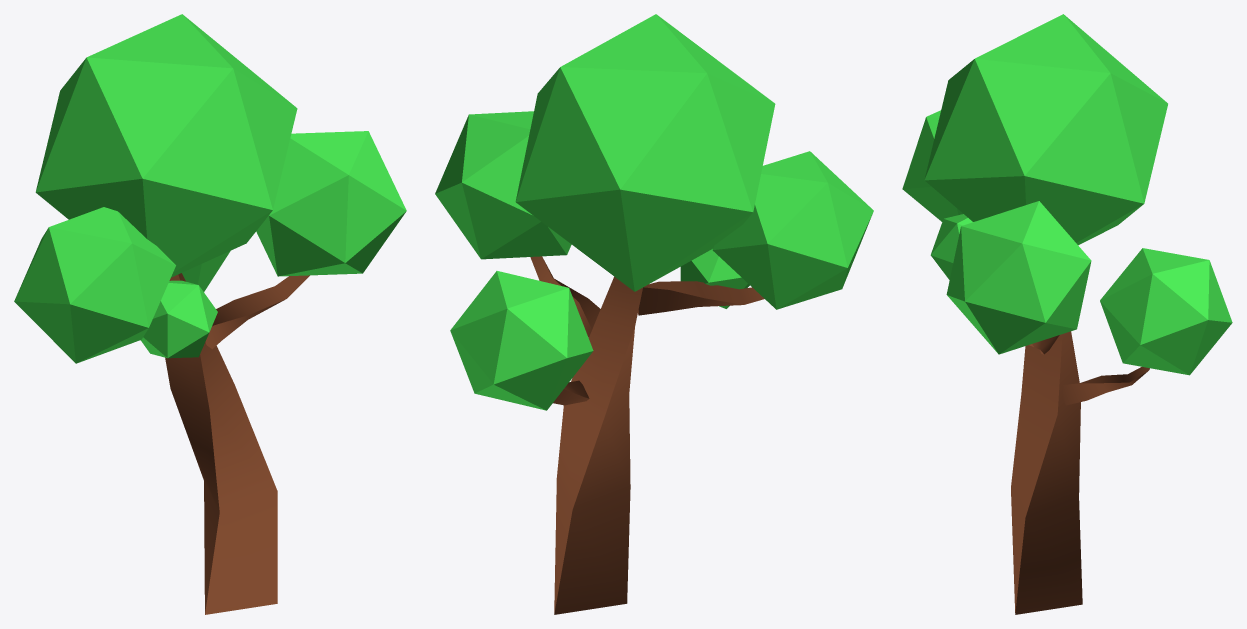
The model's file is tree2.obj.
The picture shows the model from 3 angles, left to right: view 1: azimuth 30°, elevation 25°; view 2: azimuth 150°, elevation 25°; view 3: azimuth 270°, elevation 25°; orthographic projection. The views are drawn at different scales.
Parts seen in each view (by area): view 1: Platonic.3, Cylinder.4, Platonic.4, Platonic.1, Platonic, Platonic.2; view 2: Platonic.3, Cylinder.4, Platonic.4, Platonic.2, Platonic.1, Platonic; view 3: Platonic.3, Cylinder.4, Platonic.1, Platonic.2, Platonic.4, Platonic.
Boxes of the visible parts, x1=… form: Platonic.3: x1=35, y1=14, x2=297, y2=277; Cylinder.4: x1=165, y1=273, x2=309, y2=614; Platonic.4: x1=14, y1=207, x2=175, y2=363; Platonic.1: x1=256, y1=131, x2=406, y2=276; Platonic: x1=140, y1=280, x2=217, y2=358; Platonic.2: x1=182, y1=251, x2=230, y2=291; Platonic.3: x1=515, y1=14, x2=775, y2=291; Cylinder.4: x1=530, y1=256, x2=764, y2=614; Platonic.4: x1=712, y1=151, x2=873, y2=309; Platonic.2: x1=450, y1=271, x2=593, y2=410; Platonic.1: x1=435, y1=111, x2=571, y2=259; Platonic: x1=680, y1=249, x2=749, y2=308; Platonic.3: x1=924, y1=14, x2=1167, y2=245; Cylinder.4: x1=1011, y1=331, x2=1149, y2=614; Platonic.1: x1=946, y1=201, x2=1091, y2=354; Platonic.2: x1=1100, y1=248, x2=1232, y2=375; Platonic.4: x1=902, y1=110, x2=963, y2=221; Platonic: x1=930, y1=214, x2=972, y2=279.
Size of the model in its own units: 5.72 by 8 by 4.55.
2 materials, 2 textured.
